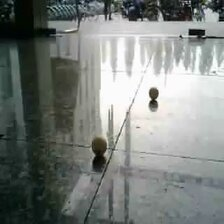w: (90, 135, 108, 156), (149, 87, 160, 100)
